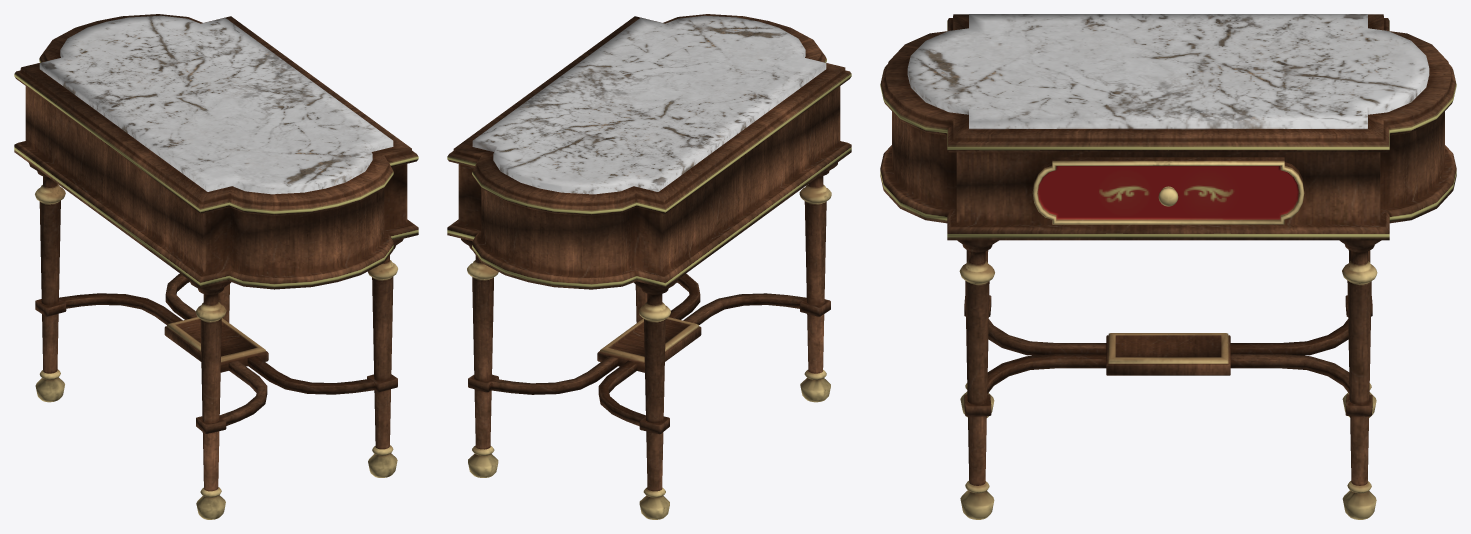
File: M_Consolle.fbx
3 renders of one model, left to right at view 1: azimuth 30°, elevation 25°; view 2: azimuth 150°, elevation 25°; view 3: azimuth 270°, elevation 25°, orthographic. The views are drawn at different scales.
Visible parts, largest first — view 1: Consolle_Base_low, Consolle_Pied_low; view 2: Consolle_Base_low, Consolle_Pied_low; view 3: Consolle_Base_low, Consolle_Tiroir_low, Consolle_Pied_low.
Boxes of the visible parts, x1,y1,x2,y2 form: Consolle_Base_low: [14, 14, 418, 433]; Consolle_Pied_low: [29, 163, 403, 519]; Consolle_Base_low: [447, 14, 851, 434]; Consolle_Pied_low: [461, 162, 837, 519]; Consolle_Base_low: [880, 14, 1456, 416]; Consolle_Tiroir_low: [1032, 157, 1304, 224]; Consolle_Pied_low: [957, 240, 1381, 519].
Bounding box in the file's own units: 0.6077 × 0.8385 × 1.1.
